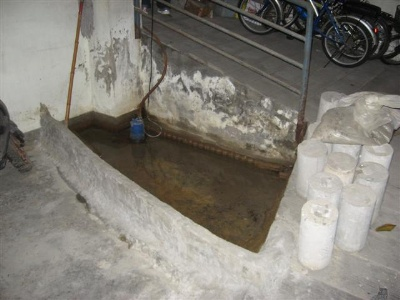bucket: (298, 199, 339, 271), (335, 183, 376, 254), (355, 160, 390, 222), (294, 139, 327, 197)
plastic_bag: (312, 90, 400, 145)
